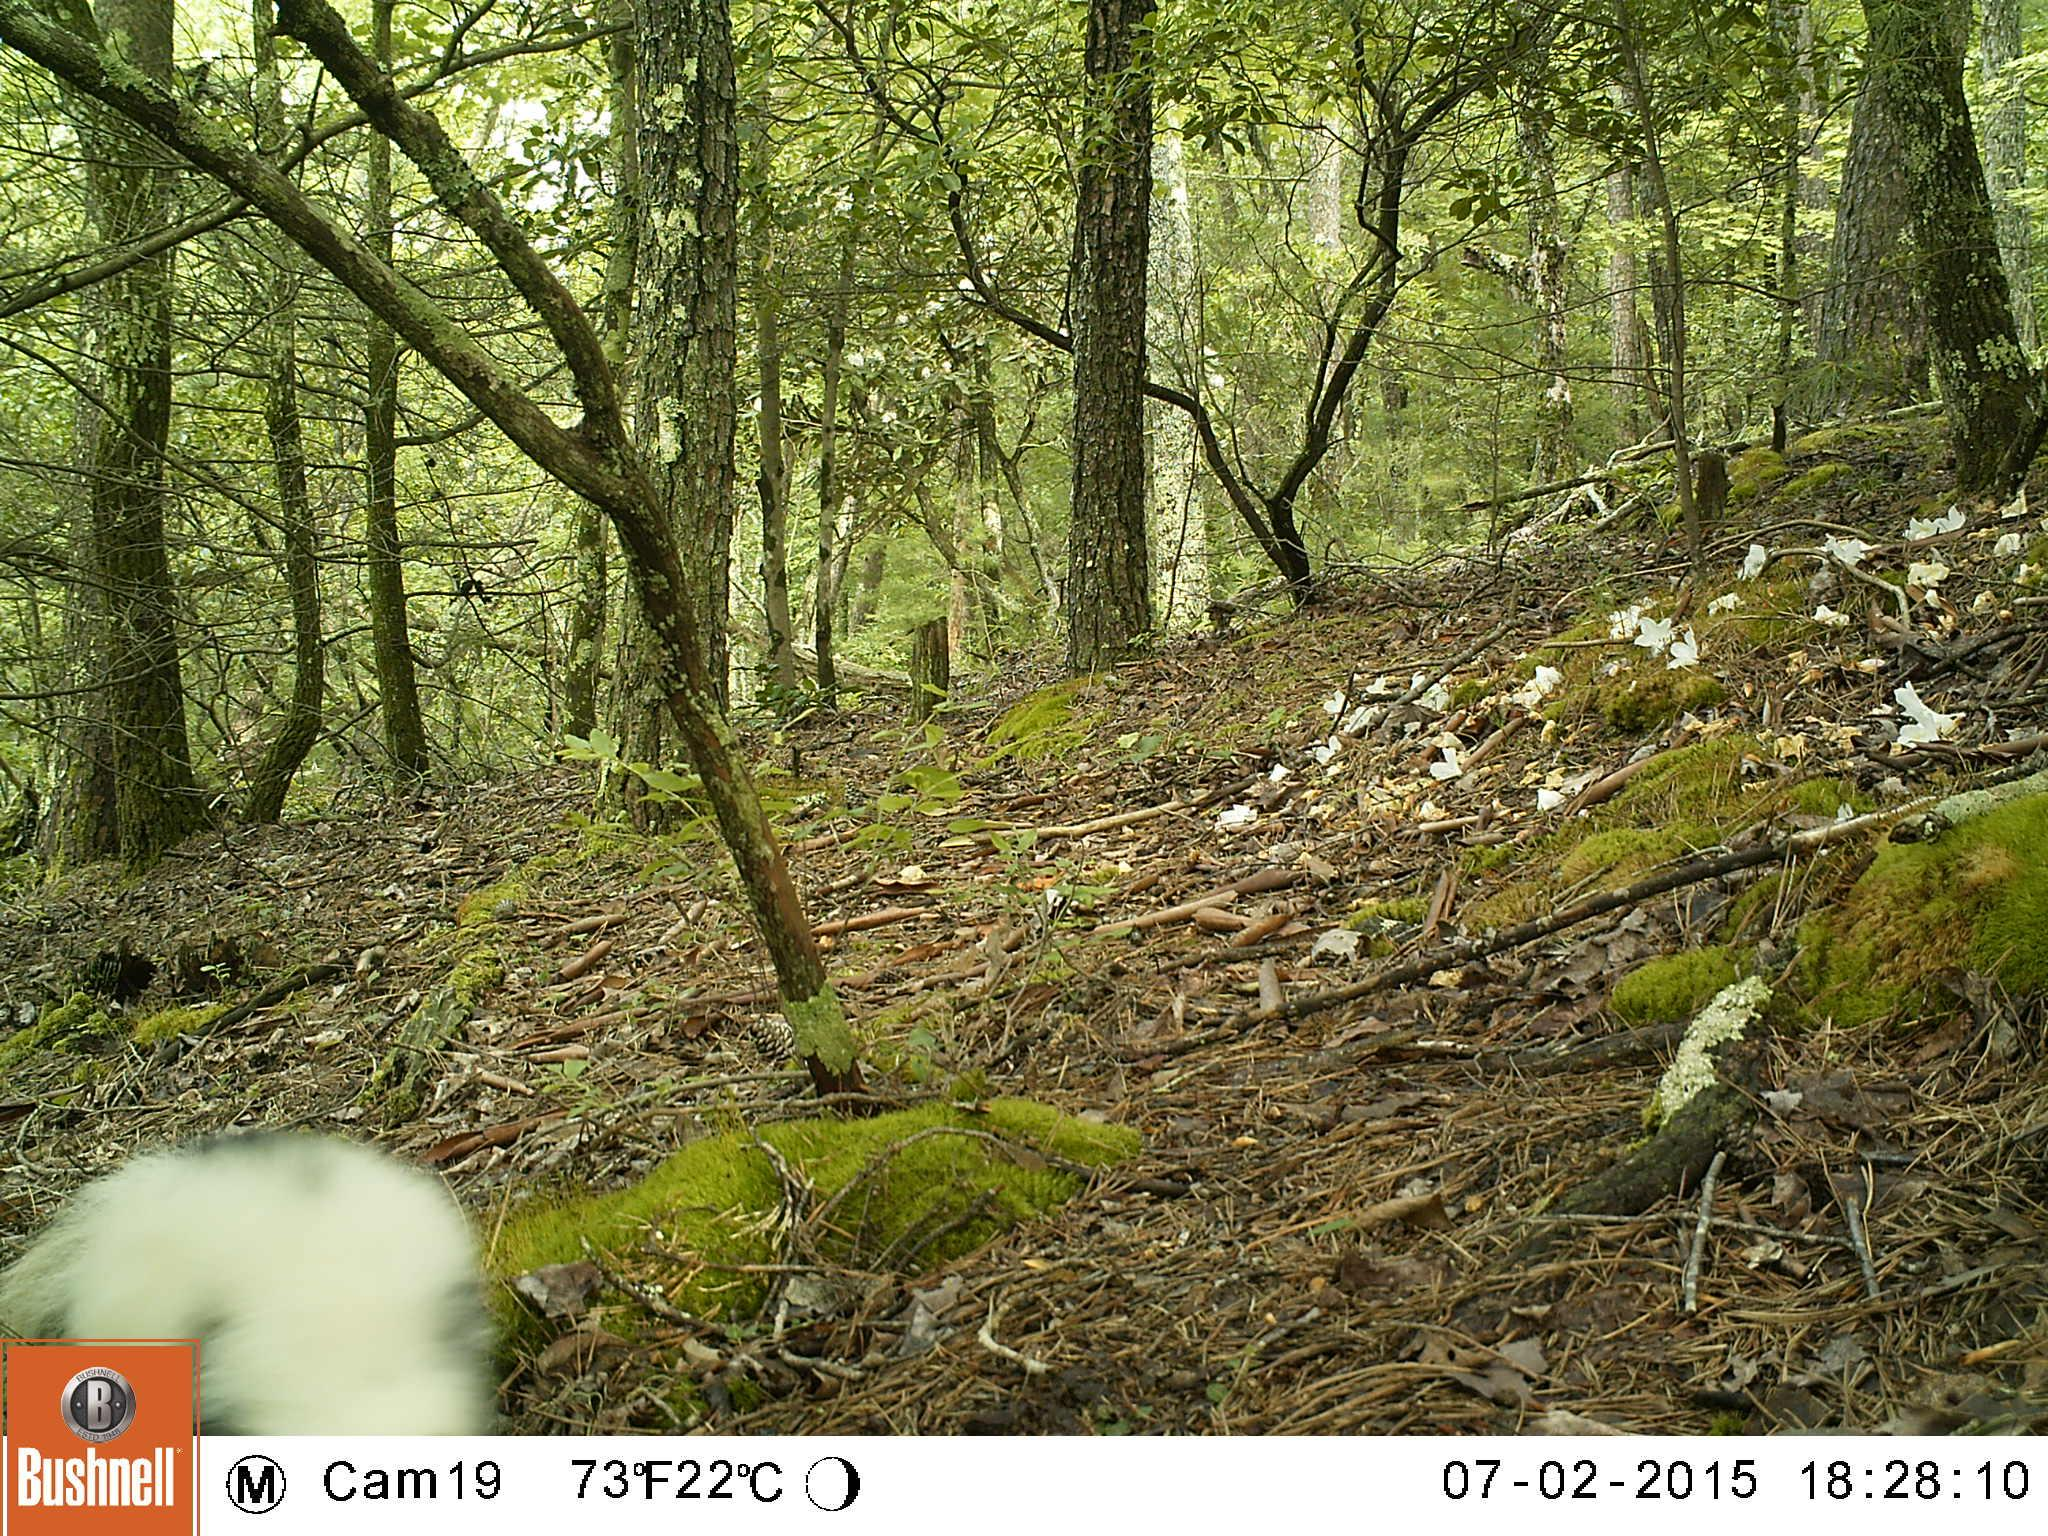Animal: (3, 1120, 497, 1441)
